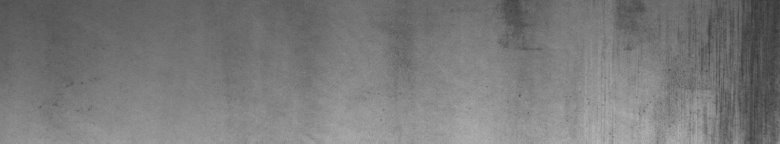ka: (624, 4, 776, 136)
